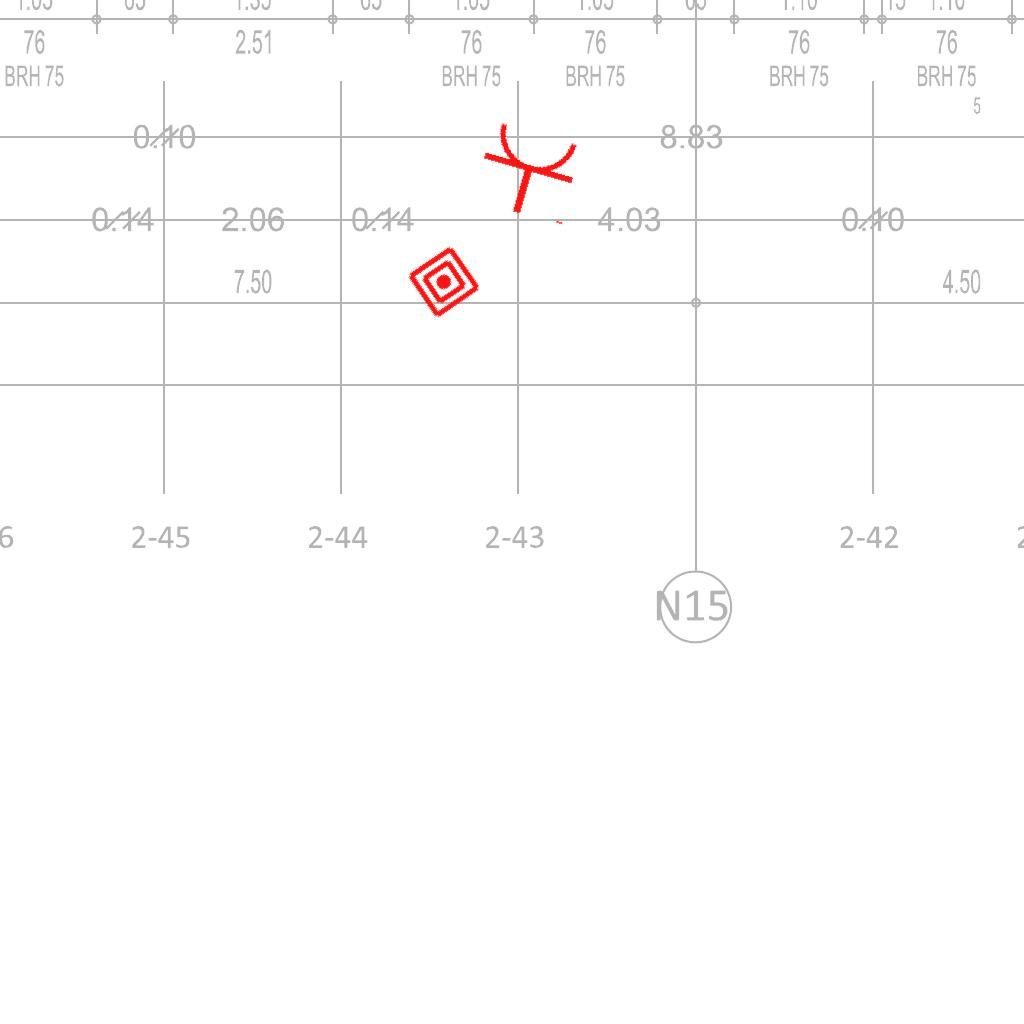NAM-Nichtautomatischer_Melder: (405, 243, 483, 321)
Schukosteckdose_einfach: (469, 117, 590, 229)
